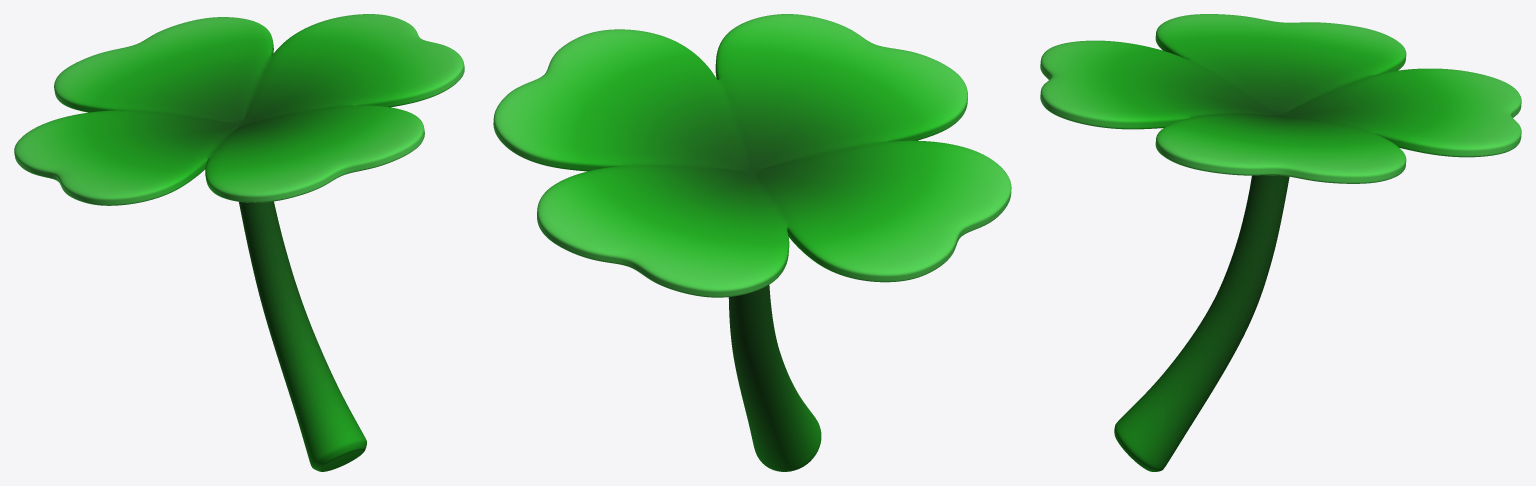
The picture shows the model from 3 angles, left to right: view 1: azimuth 30°, elevation 25°; view 2: azimuth 150°, elevation 25°; view 3: azimuth 270°, elevation 25°; orthographic projection. The views are drawn at different scales.
Parts seen in each view (by area): view 1: Mesh_0; view 2: Mesh_0; view 3: Mesh_0.
Boxes of the visible parts, bbox=[...] form: Mesh_0: bbox=[14, 14, 464, 471]; Mesh_0: bbox=[493, 14, 1011, 471]; Mesh_0: bbox=[1040, 14, 1521, 471].
Bounding box in the file's own units: 4.79 × 4.27 × 4.79.
Materials: 1 (1 with a texture image).
